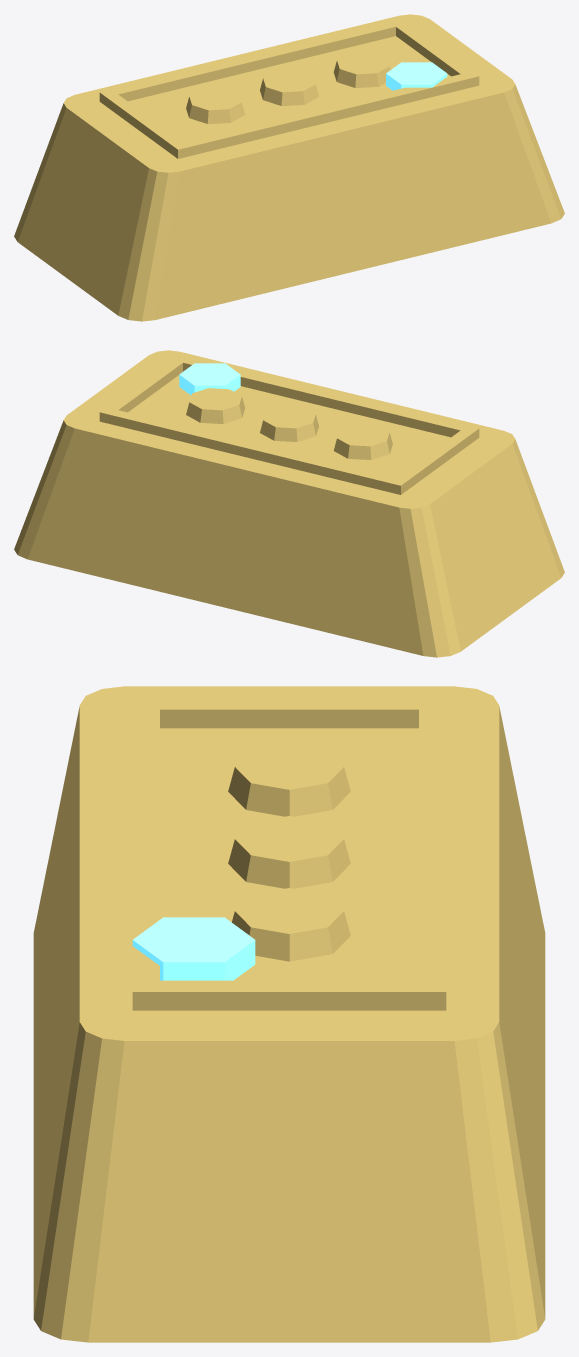
File: pickups-and-collectibles-gold-bar-e23e11d8__19863.glb
The picture shows the model from 3 angles, top to bottom: view 1: azimuth 30°, elevation 25°; view 2: azimuth 150°, elevation 25°; view 3: azimuth 270°, elevation 25°; orthographic projection. The views are drawn at different scales.
Parts seen in each view (by area): view 1: body/gold, body/gem; view 2: body/gold, body/gem; view 3: body/gold, body/gem.
Part boxes in pixels (x1,y1,x2,y2): body/gold: (14,14,564,321); body/gem: (386,62,447,90); body/gold: (14,350,564,657); body/gem: (179,363,240,395); body/gold: (33,686,545,1342); body/gem: (132,917,255,980).
Size of the model in its own units: 0.3 by 0.093 by 0.15.
